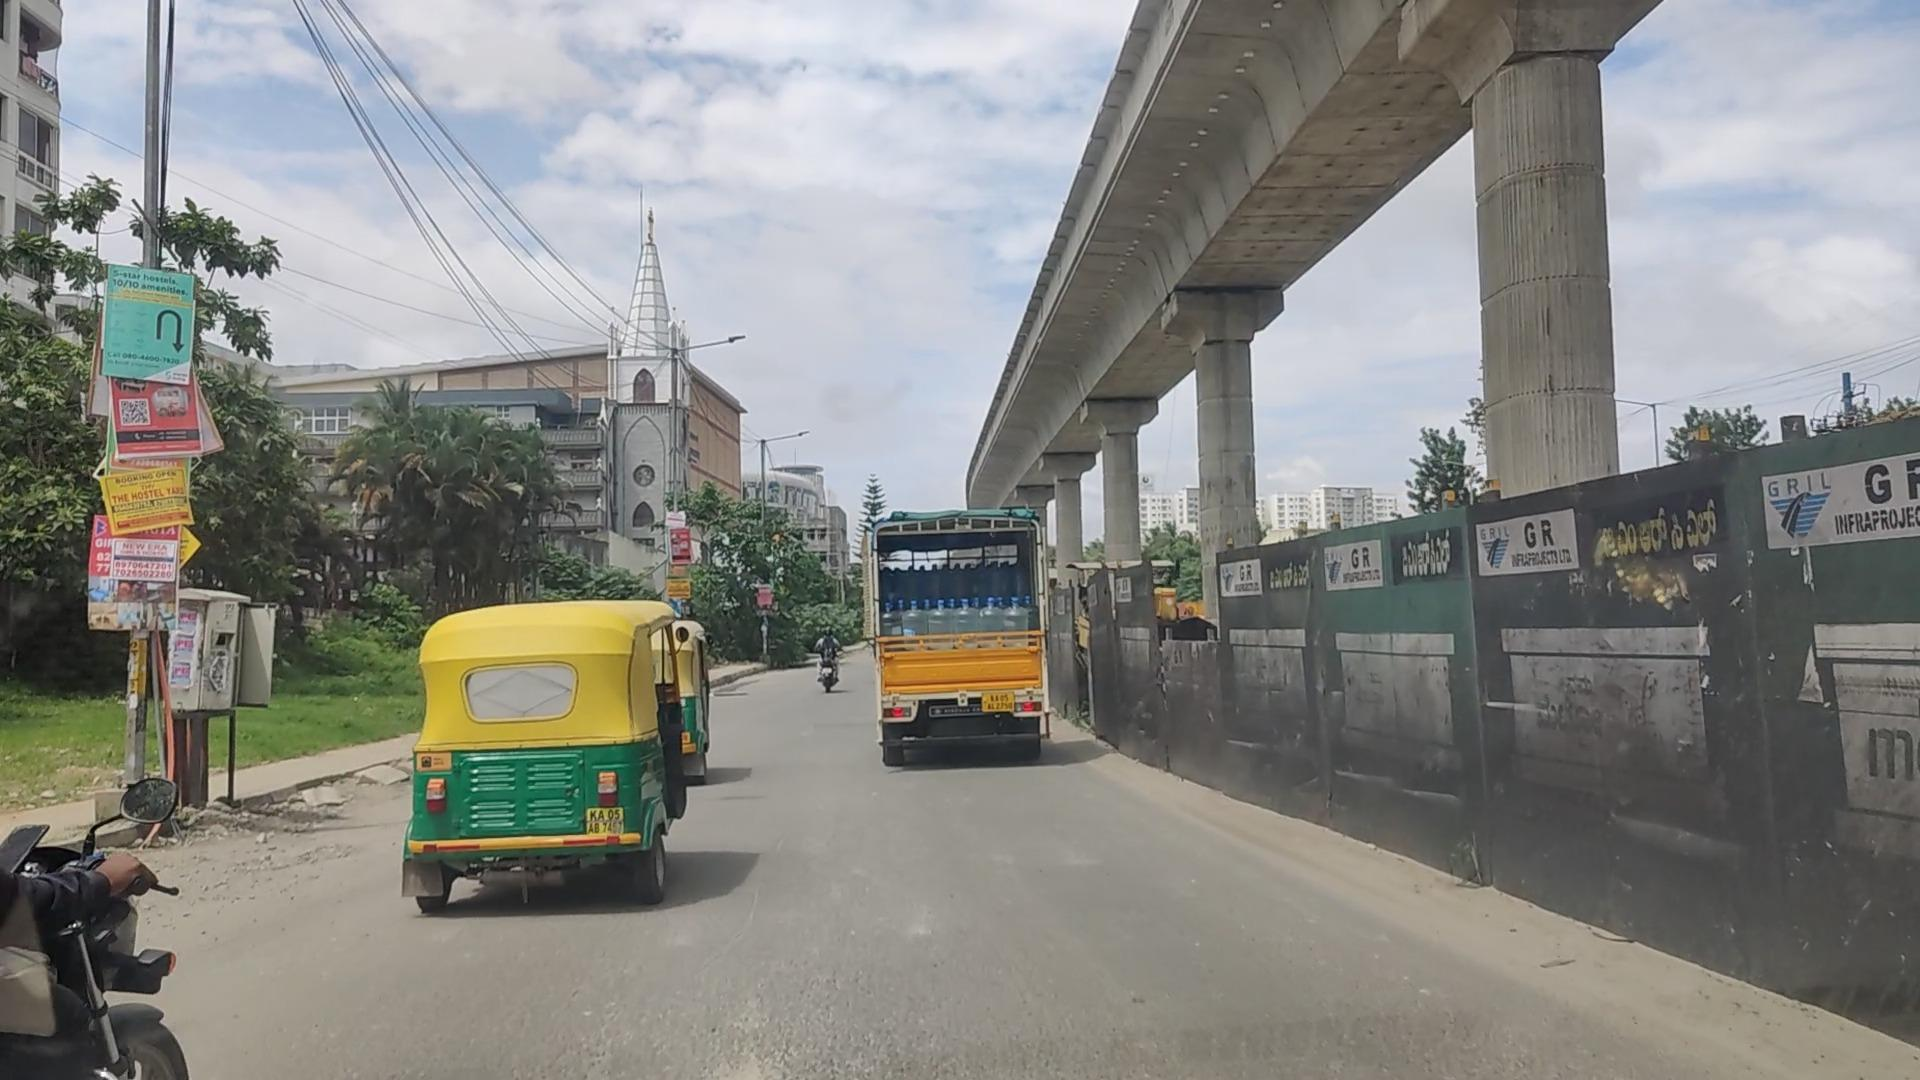HMV: (861, 504, 1046, 777)
LMV: (418, 588, 679, 926)
